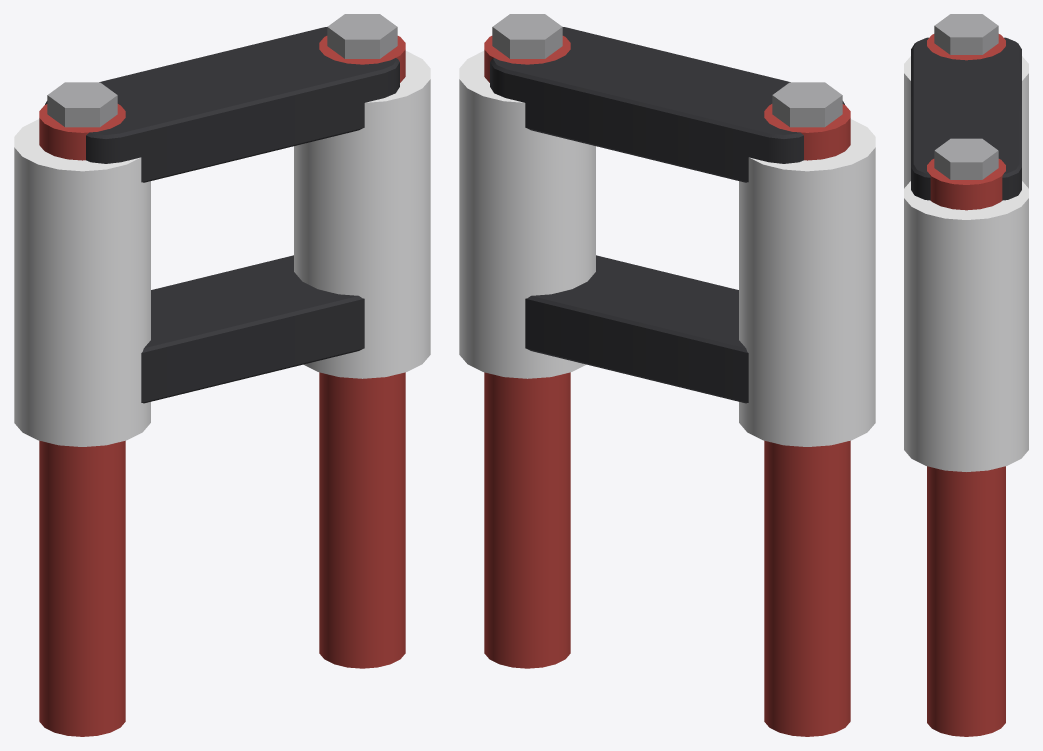
File: bobber_wide_shroud_upper.glb
3 views of the same model, side by side, from view 1: azimuth 30°, elevation 25°; view 2: azimuth 150°, elevation 25°; view 3: azimuth 270°, elevation 25° (orthographic). The views are drawn at different scales.
Visible parts, largest first — view 1: lod0; view 2: lod0; view 3: lod0.
Boxes of the visible parts, x1,y1,x2,y2 form: lod0: [14, 14, 430, 736]; lod0: [459, 14, 875, 736]; lod0: [904, 14, 1028, 736].
Size of what is drawn, in the model's own units: 0.3036 by 0.452 by 0.0898.
